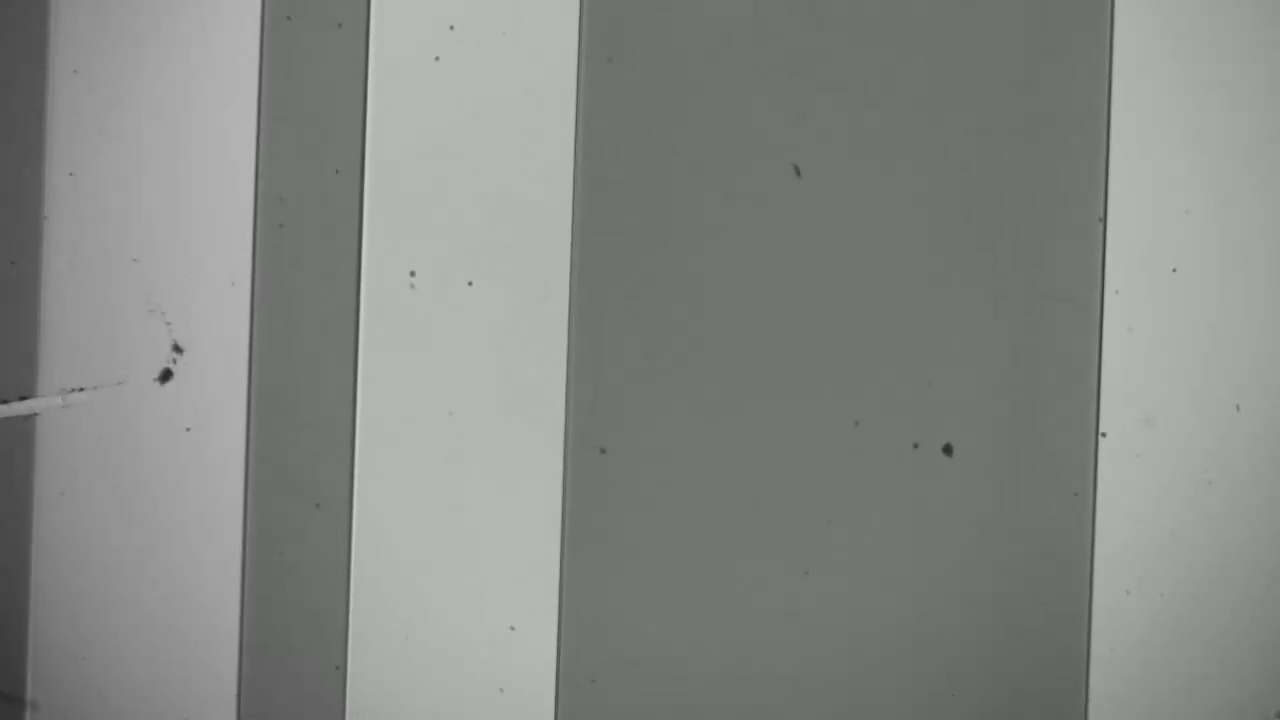Short_circuit: (1, 370, 93, 438)
